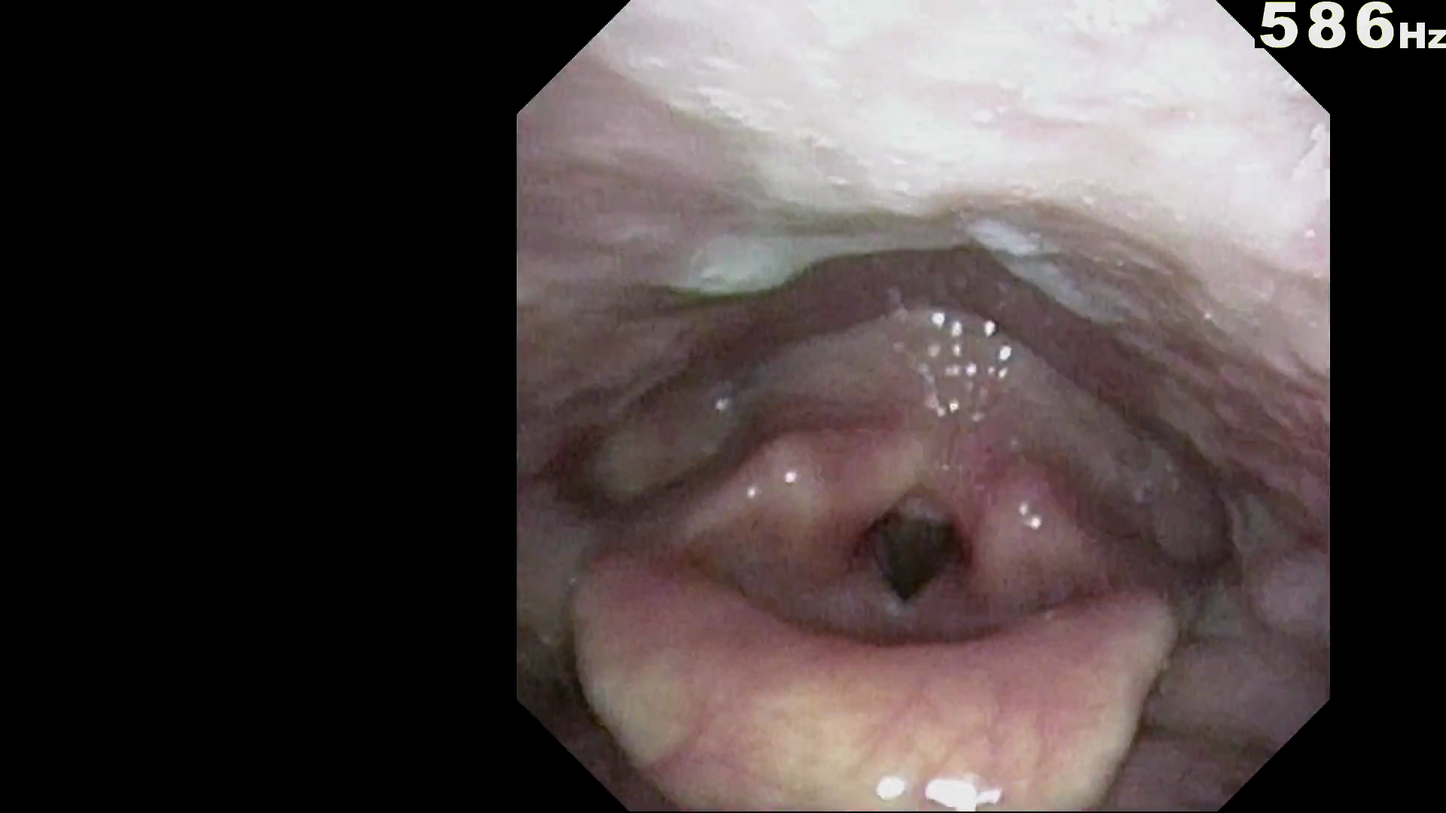epiglottis: (613, 643, 1189, 777)
trachea: (848, 510, 972, 641)
